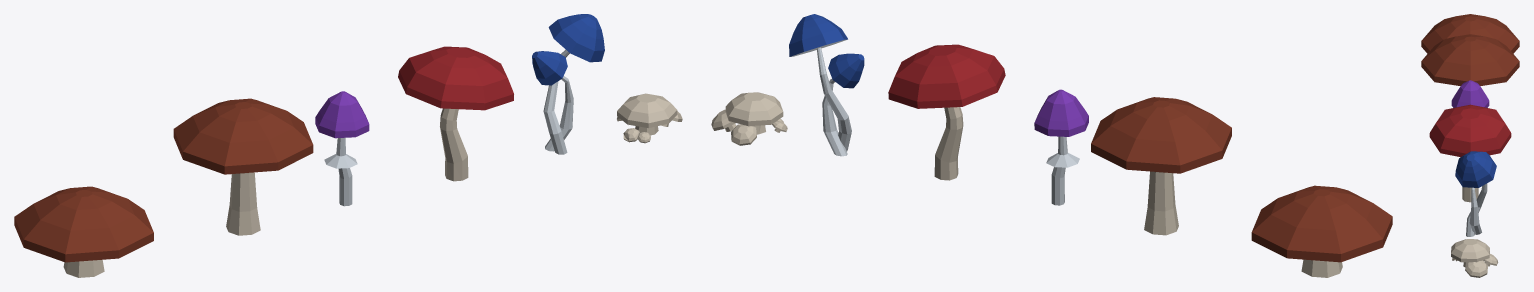
The model's file is Mushroom.fbx.
3 renders of one model, left to right at view 1: azimuth 30°, elevation 25°; view 2: azimuth 150°, elevation 25°; view 3: azimuth 270°, elevation 25°, orthographic. The views are drawn at different scales.
Visible parts, largest first — view 1: mushroom.003, mushroom.005, mushroom.001, mushroom.004, mushroom.002, mushroom; view 2: mushroom.003, mushroom.005, mushroom.001, mushroom.004, mushroom.002, mushroom; view 3: mushroom.003, mushroom.001, mushroom.005, mushroom.004, mushroom, mushroom.002.
Part boxes in pixels (x1,y1,x2,y2): mushroom.003: (173,98,313,235); mushroom.005: (14,186,153,277); mushroom.001: (398,46,513,181); mushroom.004: (532,14,604,154); mushroom.002: (315,91,369,206); mushroom: (617,93,682,143); mushroom.003: (1091,97,1231,235); mushroom.005: (1251,185,1392,277); mushroom.001: (888,44,1005,180); mushroom.004: (789,14,864,156); mushroom.002: (1034,89,1088,205); mushroom: (711,92,787,145); mushroom.003: (1421,34,1519,85); mushroom.001: (1429,104,1511,202); mushroom.005: (1421,14,1519,53); mushroom.004: (1455,151,1496,236); mushroom: (1451,239,1498,277); mushroom.002: (1451,80,1489,107).
Bounding box in the file's own units: 107 × 20.73 × 19.65.
